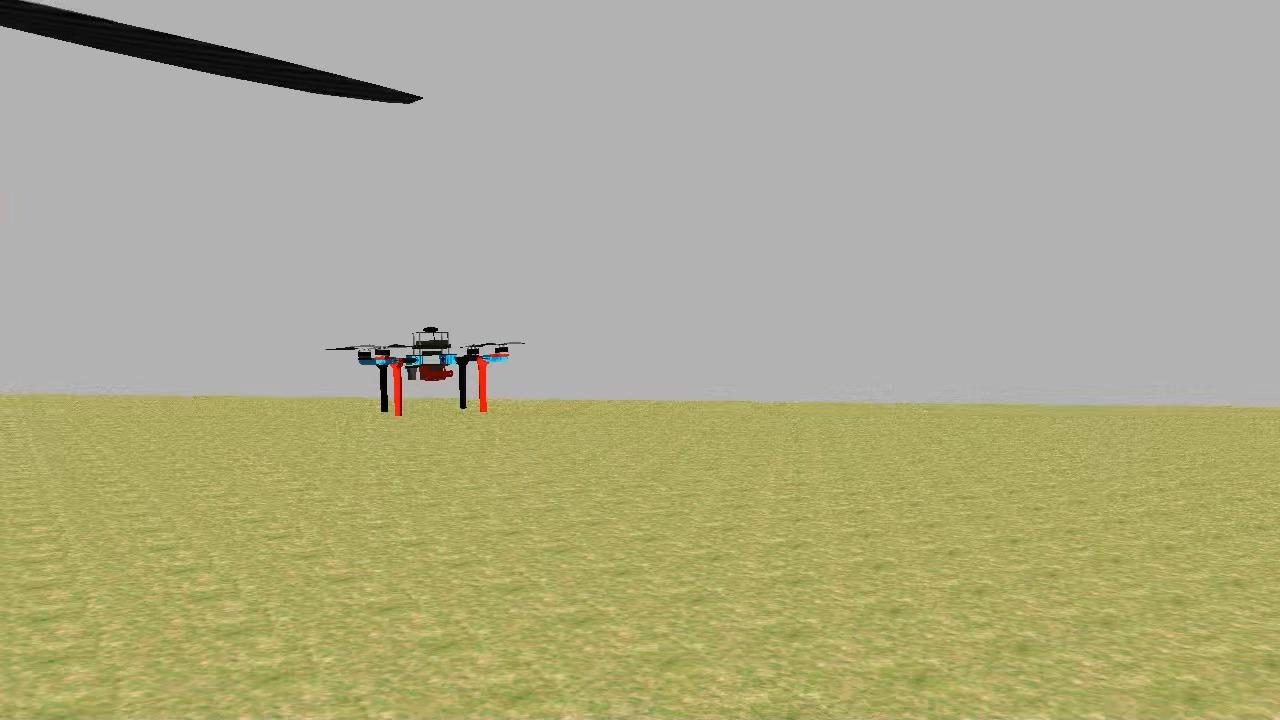UAV: (354, 324, 518, 422)
